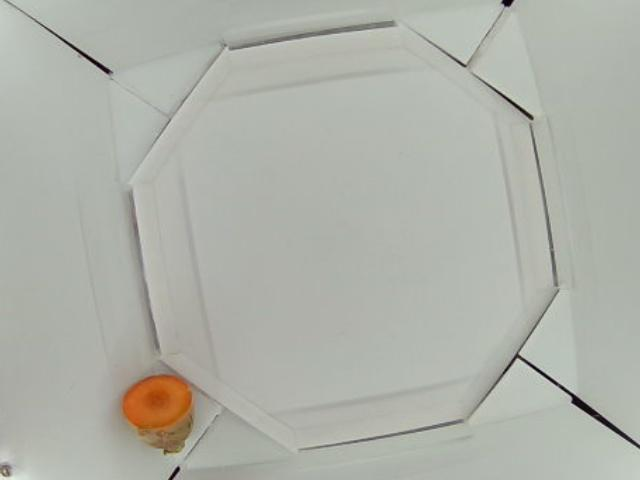Carrot: (122, 376, 195, 454)
